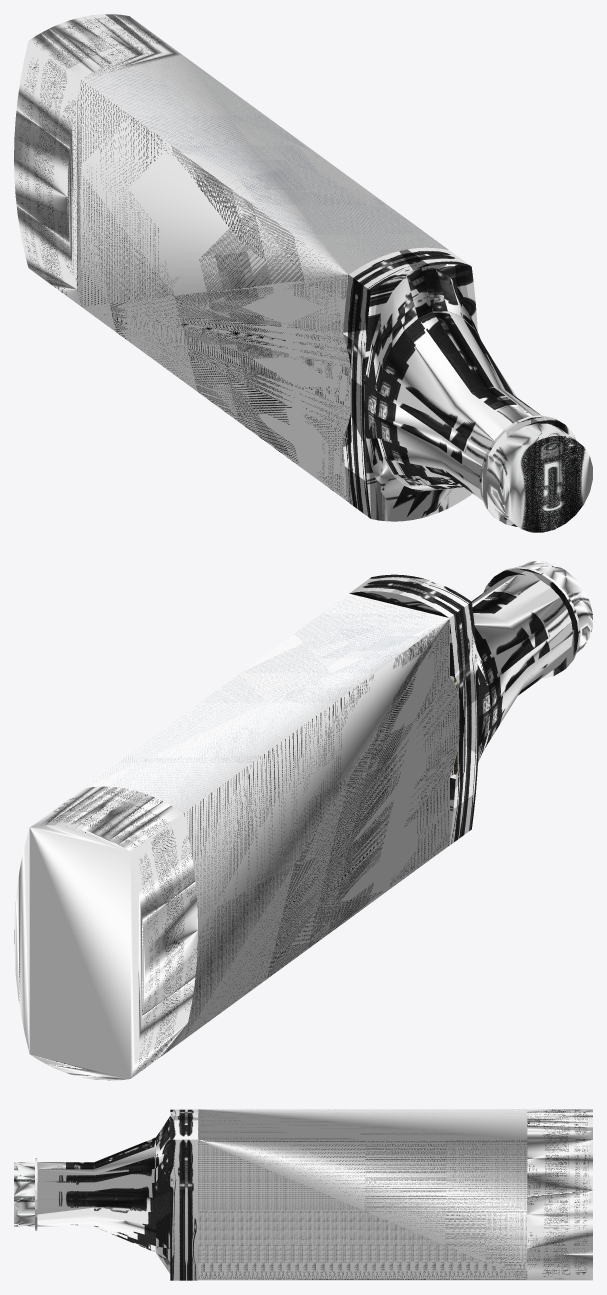
The model's file is model_align.obj.
3 renders of one model, top to bottom at view 1: azimuth 30°, elevation 25°; view 2: azimuth 150°, elevation 25°; view 3: azimuth 270°, elevation 25°, orthographic. The views are drawn at different scales.
Size of the model in its own units: 0.035 by 0.0639 by 0.2165.
